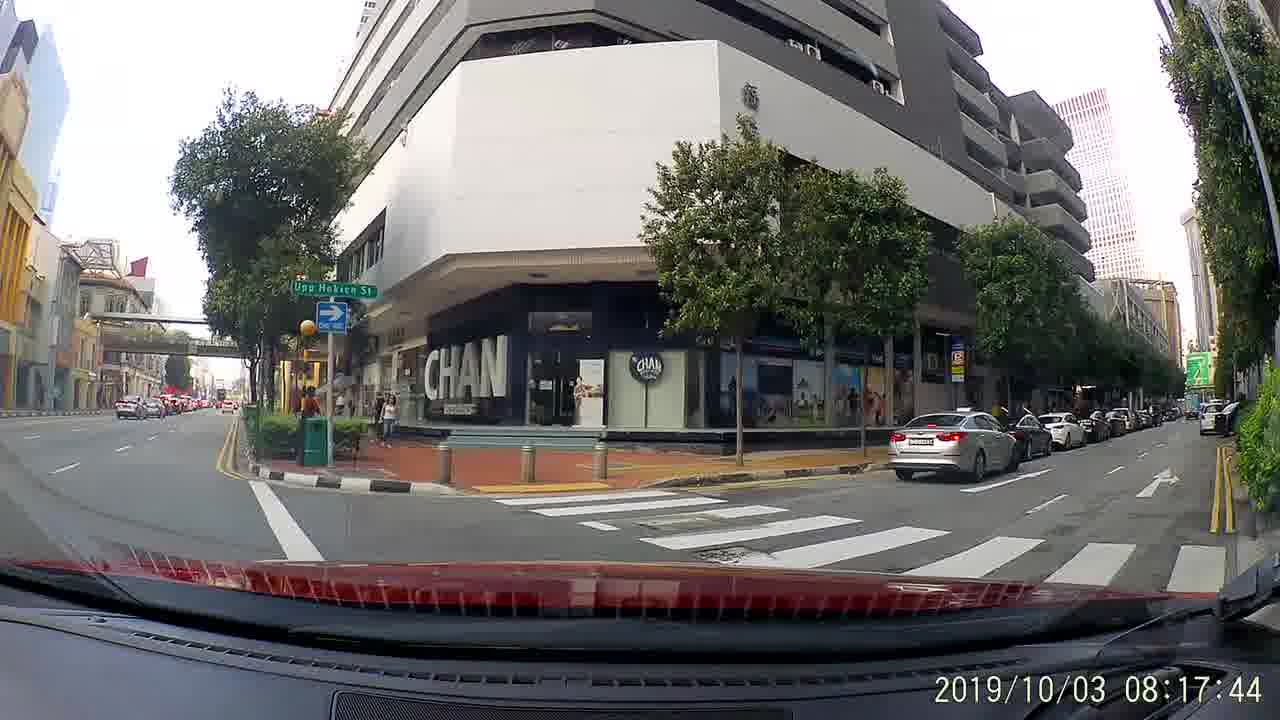car: (885, 409, 1017, 484), (992, 411, 1053, 459), (1035, 412, 1084, 448), (1214, 398, 1255, 441), (1072, 410, 1108, 444), (1198, 396, 1228, 436), (116, 395, 146, 421), (1105, 408, 1129, 435), (140, 397, 163, 416), (216, 396, 232, 414)
